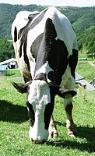cow: (12, 11, 78, 144)
